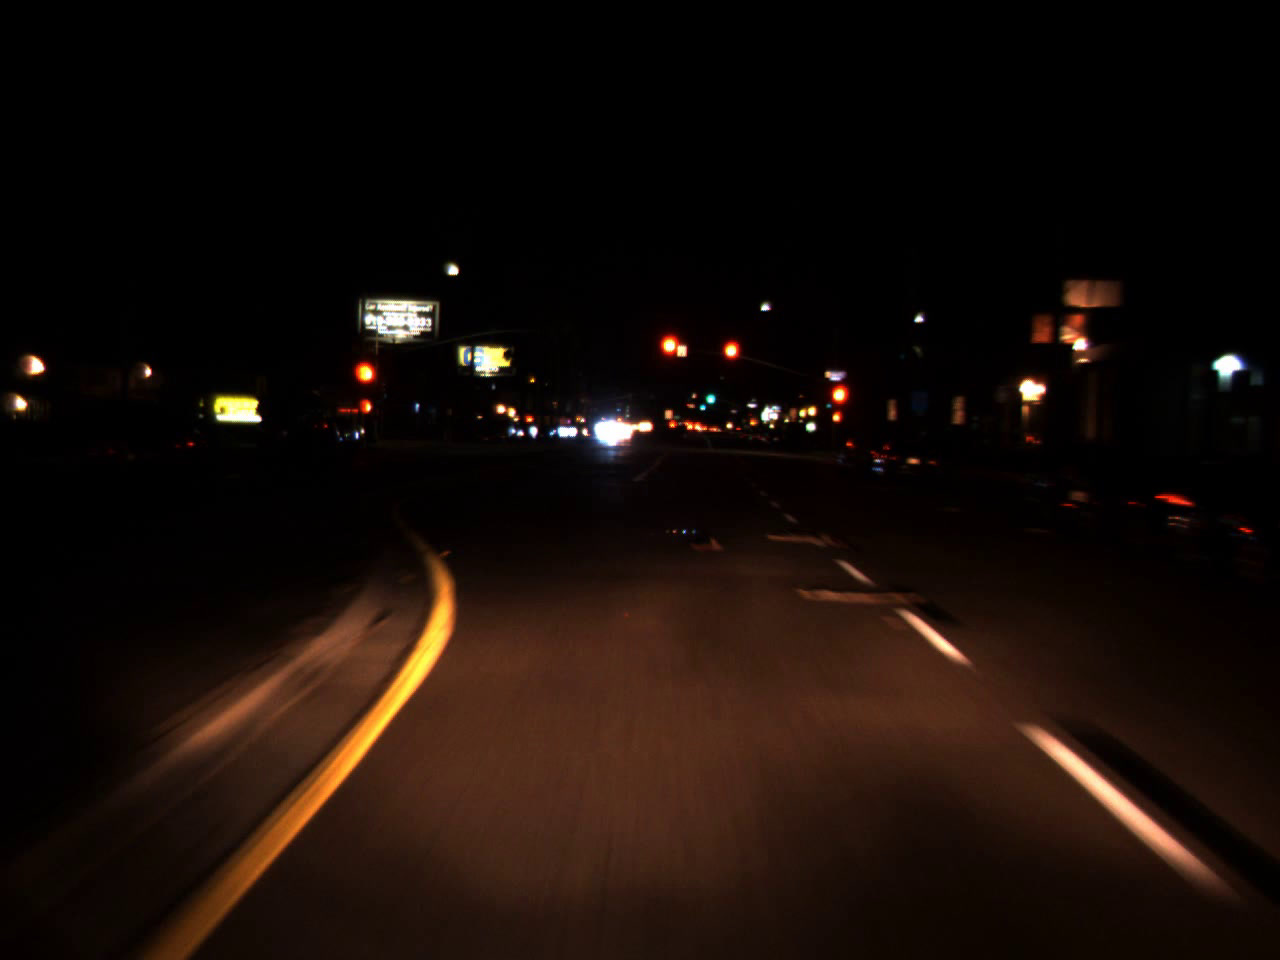go: (703, 384, 713, 405)
stop: (351, 358, 378, 409), (657, 331, 682, 379), (828, 381, 852, 429), (720, 337, 742, 382)
